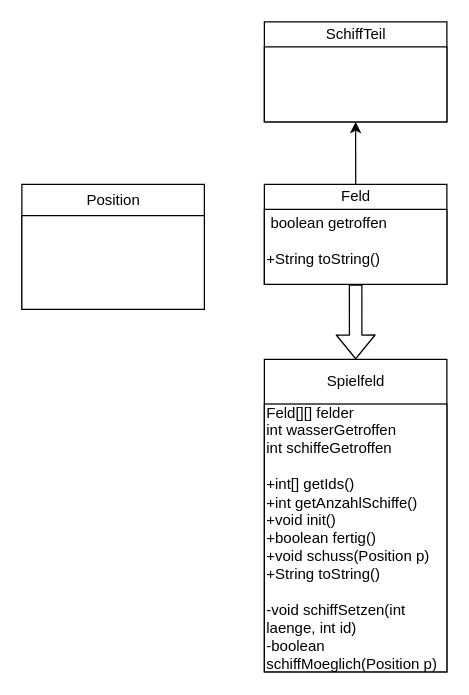
The diagram is 469 pixels wide and 695 high, and some of its shapes have lost their labels. Here are the shapes that lost their labels. From the top down, the centre of each, then its label:
At point (355, 84): "int id +String toString()".
At point (112, 261): "int x int y boolean rotation +equals(Object obj)".
